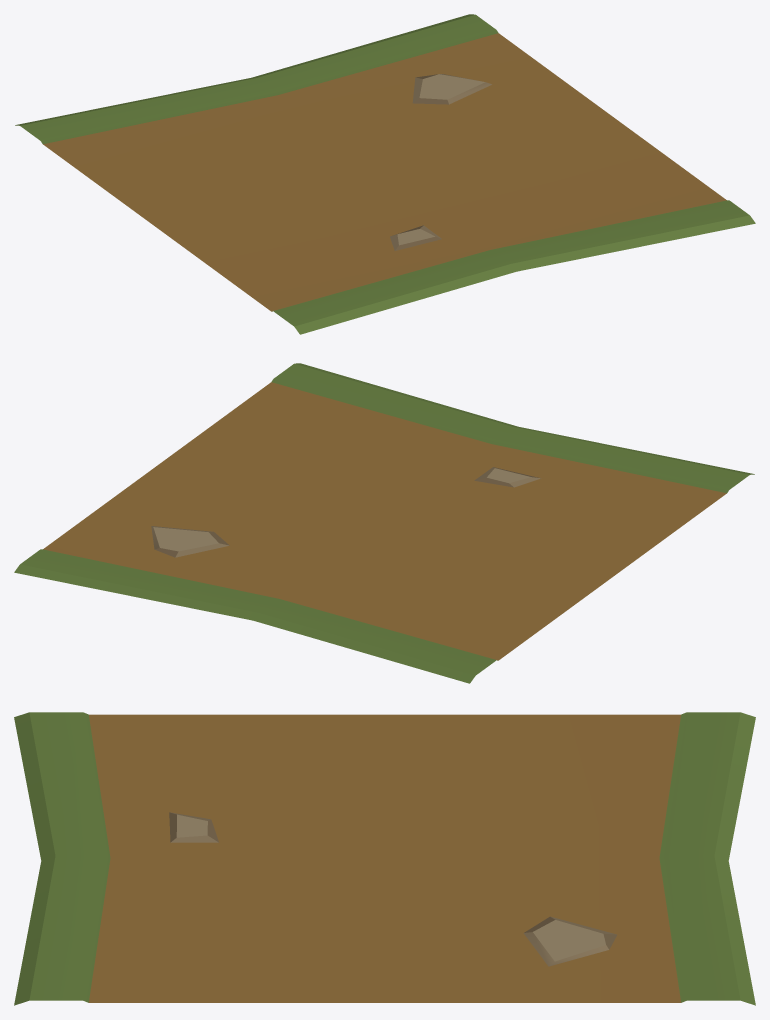
The model's file is Path_End_02.gltf.
The picture shows the model from 3 angles, top to bottom: view 1: azimuth 30°, elevation 25°; view 2: azimuth 150°, elevation 25°; view 3: azimuth 270°, elevation 25°; orthographic projection. The views are drawn at different scales.
Visible parts, largest first — view 1: SF_Env_Path_End_02; view 2: SF_Env_Path_End_02; view 3: SF_Env_Path_End_02.
Part boxes in pixels (left/top/right/bottom): SF_Env_Path_End_02: left=15, top=14, right=755, bottom=334; SF_Env_Path_End_02: left=14, top=363, right=754, bottom=683; SF_Env_Path_End_02: left=14, top=712, right=755, bottom=1005.
Bounding box in the file's own units: 0.0498 × 0.000405 × 0.0542.
Materials: 1 (1 with a texture image).
